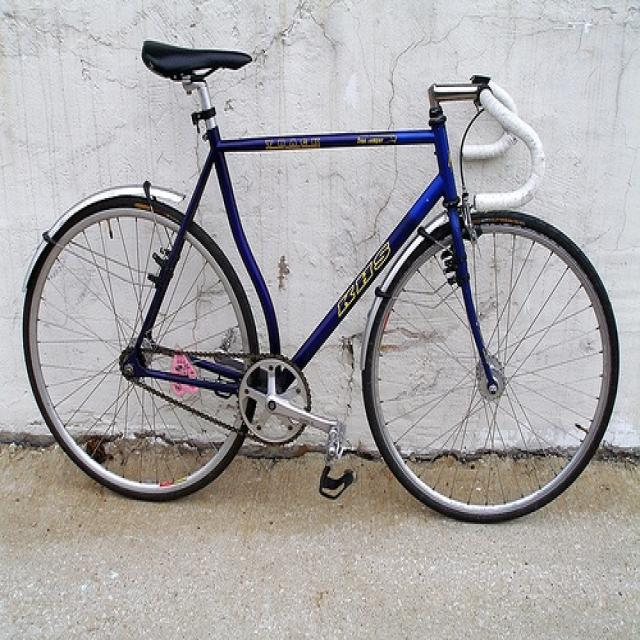bicycle: (19, 38, 620, 522)
